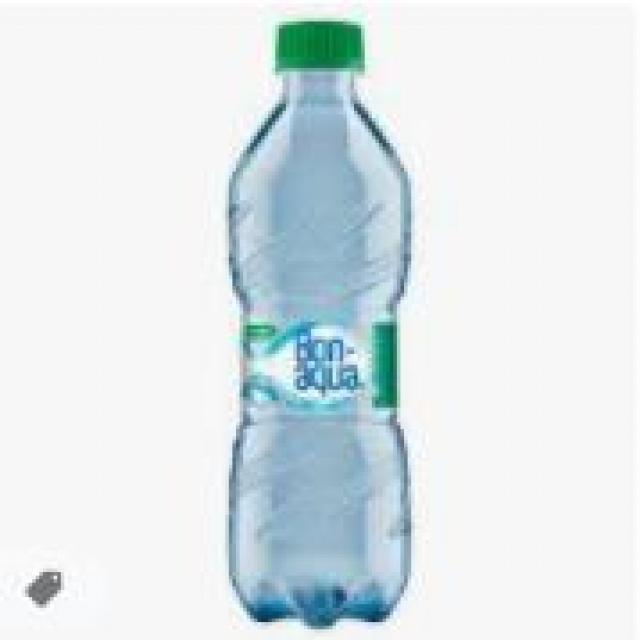bottle: (219, 12, 424, 630)
